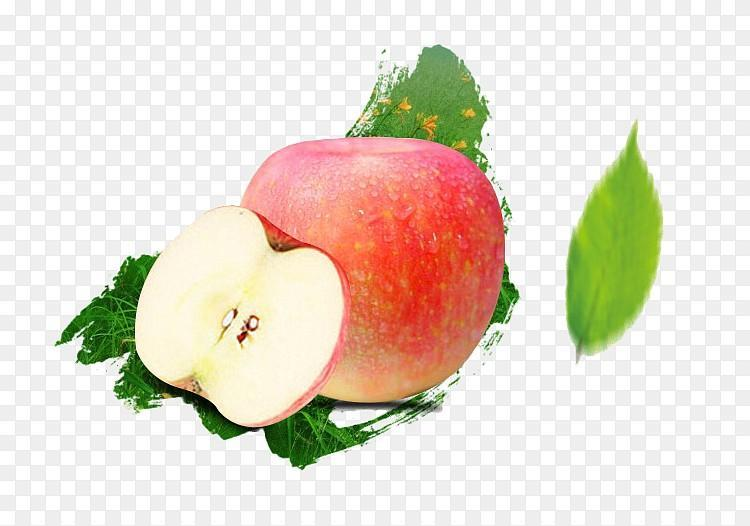apple: (238, 137, 503, 402), (133, 204, 353, 429)
